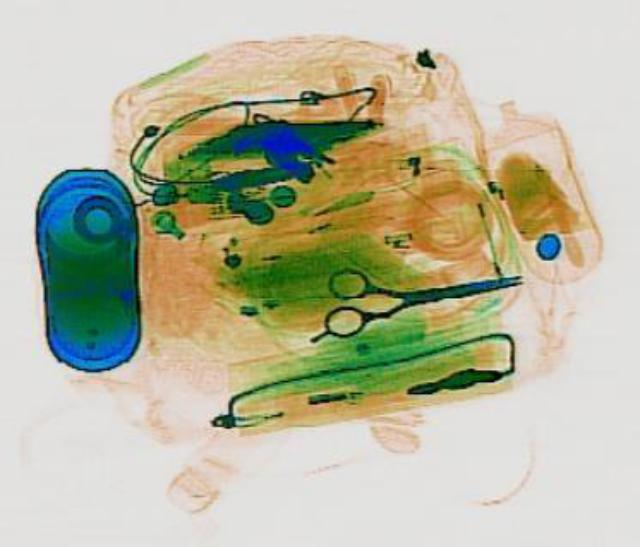Scissors: (314, 251, 526, 336)
